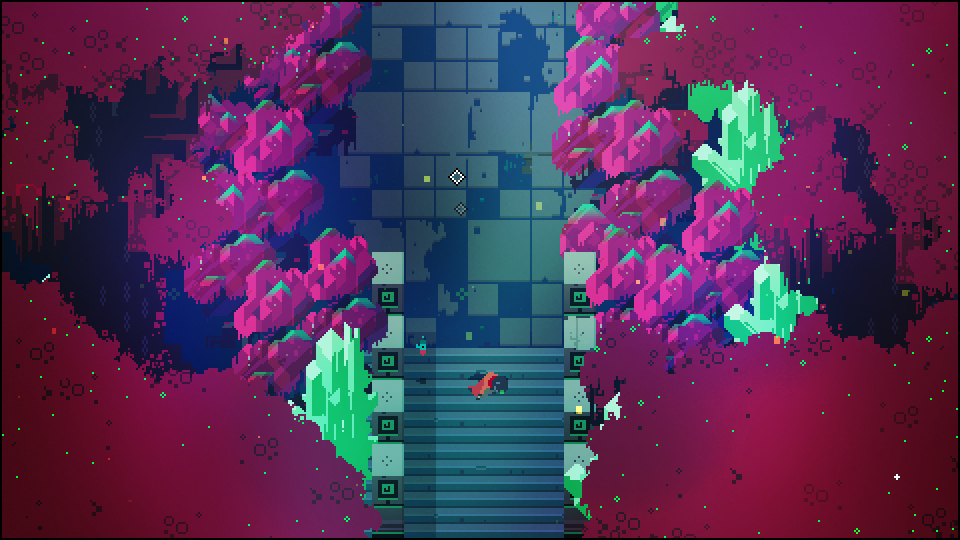player: (464, 368, 507, 399)
